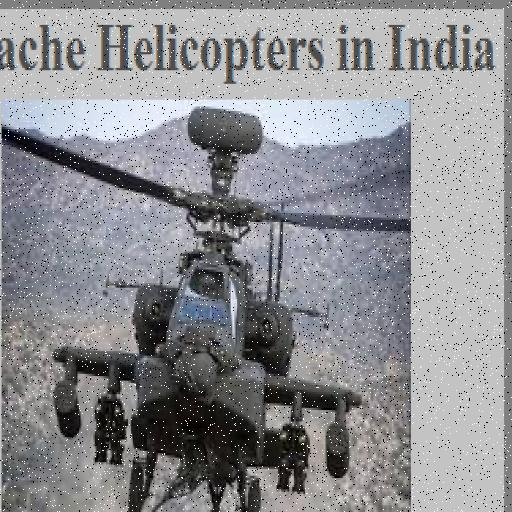helicopter: (34, 91, 367, 512)
